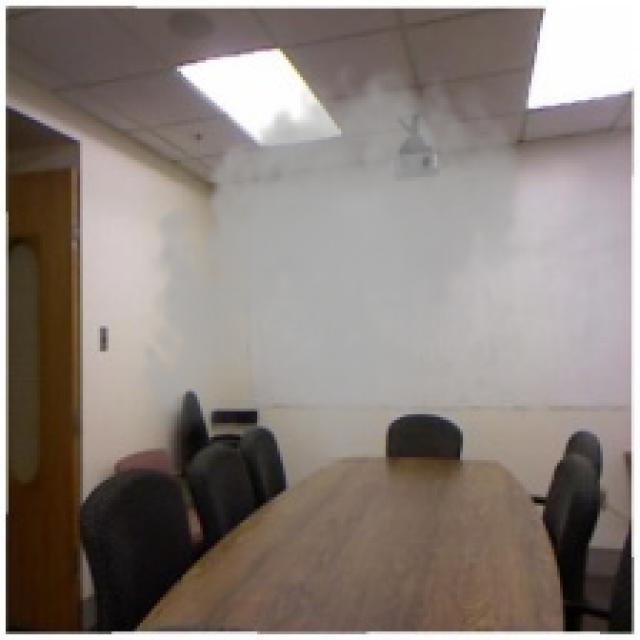smoke: (128, 54, 532, 463)
